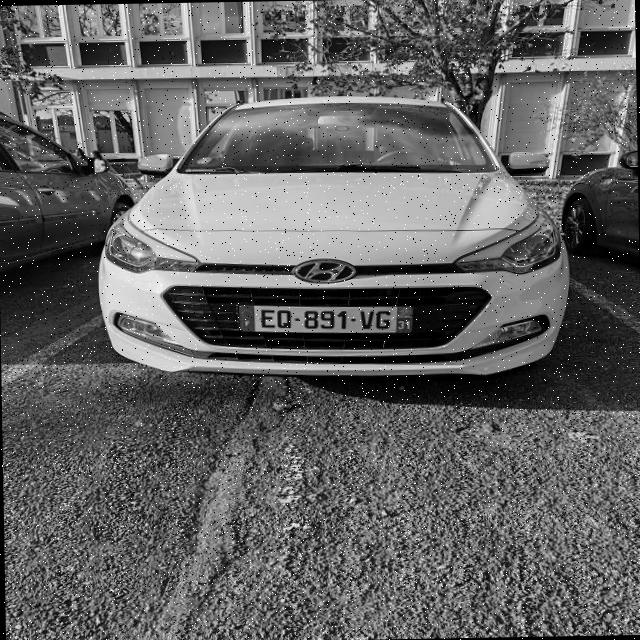EU: (238, 300, 414, 340)
France: (237, 303, 256, 332)
